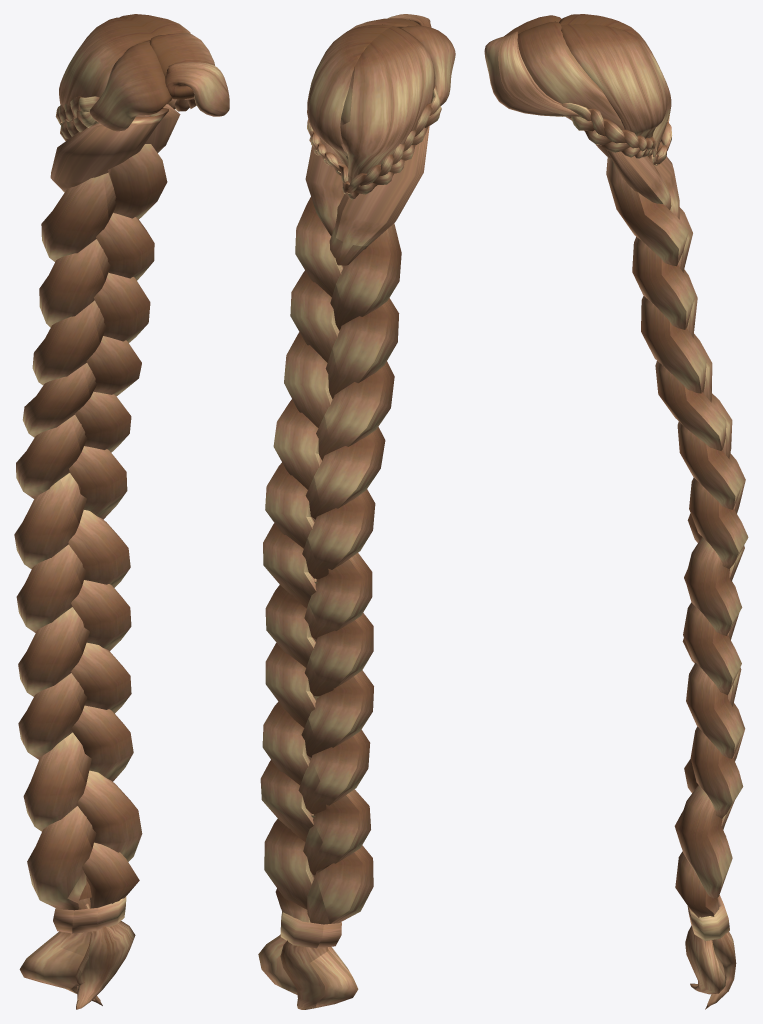
File: hair_rapunzel.glb
The picture shows the model from 3 angles, left to right: view 1: azimuth 30°, elevation 25°; view 2: azimuth 150°, elevation 25°; view 3: azimuth 270°, elevation 25°; orthographic projection. The views are drawn at different scales.
Parts seen in each view (by area): view 1: Object_2; view 2: Object_2; view 3: Object_2.
Boxes of the visible parts, <box> form: Object_2: <box>14,14,229,1009</box>; Object_2: <box>258,14,455,1009</box>; Object_2: <box>484,14,748,1009</box>.
Size of the model in its own units: 0.1989 by 1.51 by 0.3698.
1 material, 1 textured.
